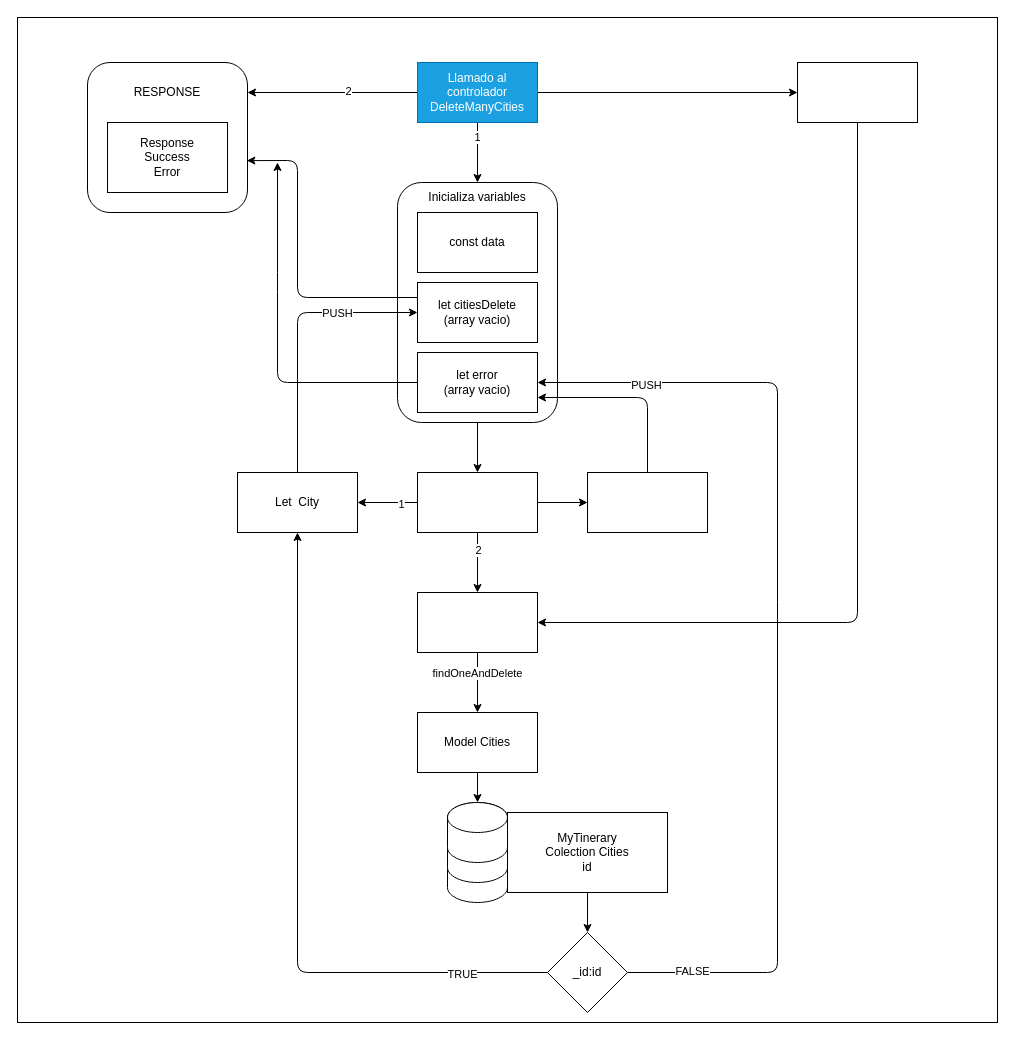
Image size: 1015x1040. Some labels were removed from this diagram. Each missing label, with the centre of its shape:
"CATCH" goes at point (647, 502).
"For (let id of data)" goes at point (477, 622).
"req.params.data" goes at point (857, 92).
"TRY" goes at point (477, 502).
